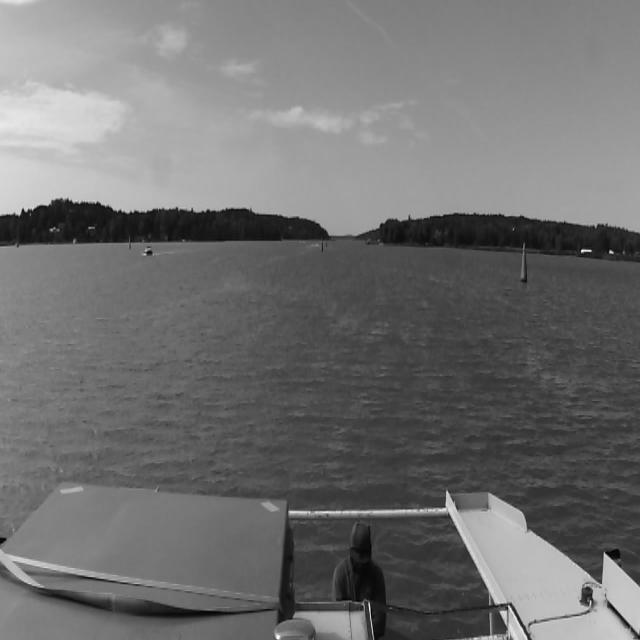buoy: (520, 241, 529, 280), (322, 235, 324, 252)
ship: (142, 247, 154, 258)
